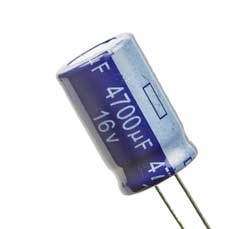capacitor: (39, 15, 215, 223)
